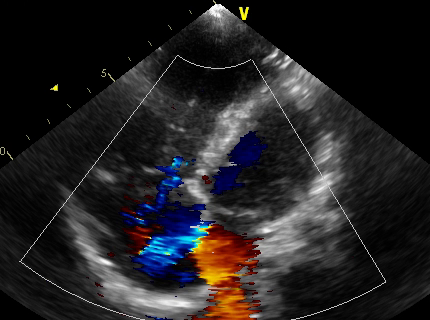TR: (133, 156, 202, 227)
